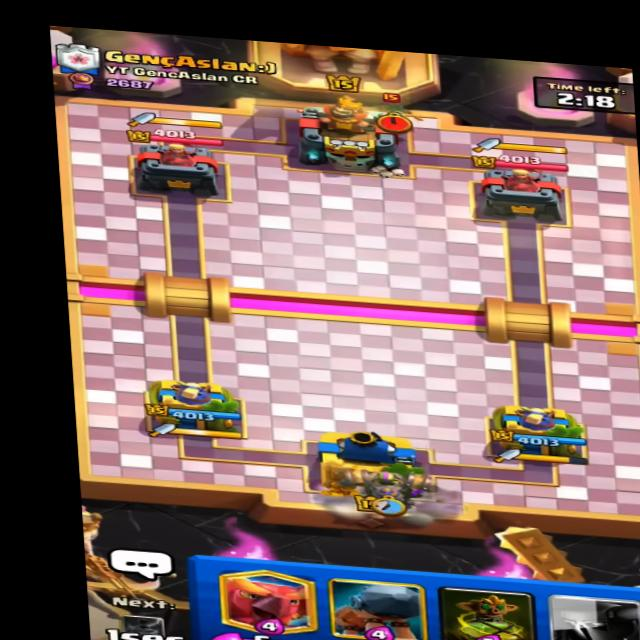Bandit: (377, 90, 428, 132)
